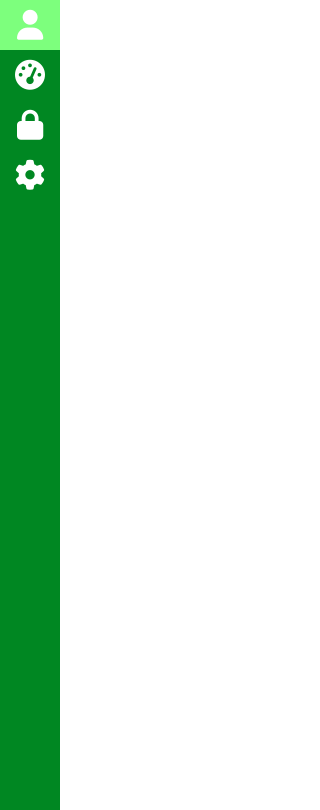
Test case: Sidebar › when expanded › shows all section names
Hover over the navigation bar with test id "sidebar": [30, 405] box x1=0 y1=0 x2=60 y2=809
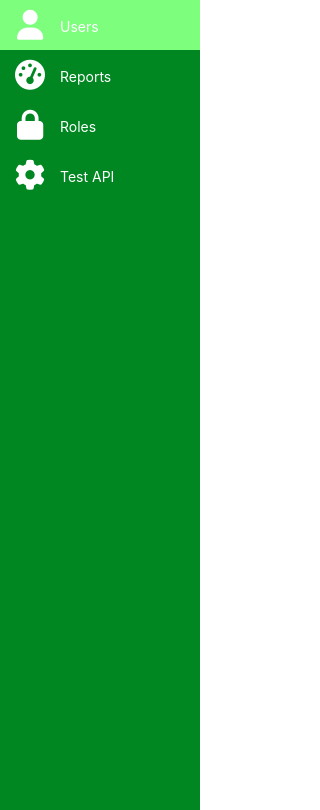
Expected: the link "Users" is shown, x1=0 y1=18 x2=99 y2=35
Result: the link "Test API" is shown at x1=0 y1=168 x2=114 y2=185
